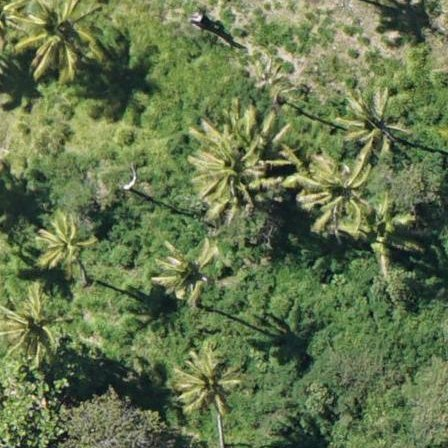palm_tree: (303, 151, 382, 235), (165, 335, 244, 419), (17, 1, 99, 70), (192, 121, 264, 199), (339, 90, 408, 164), (30, 206, 99, 279), (3, 290, 67, 359), (150, 243, 219, 302)
